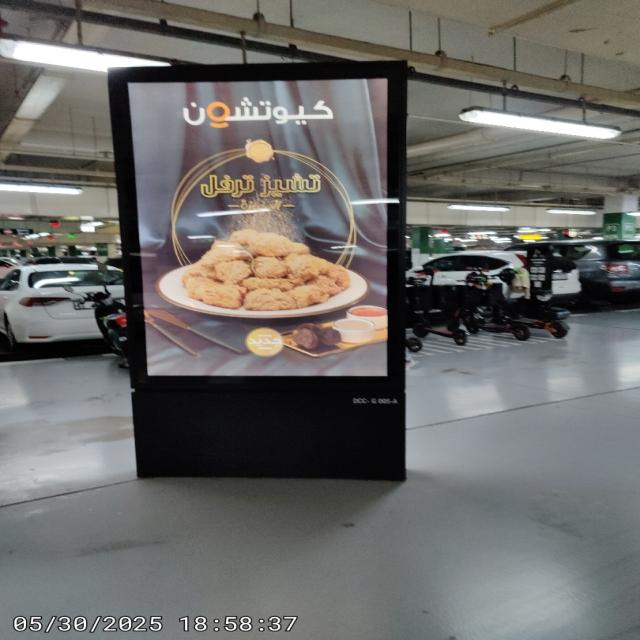mupi: (109, 61, 408, 479)
